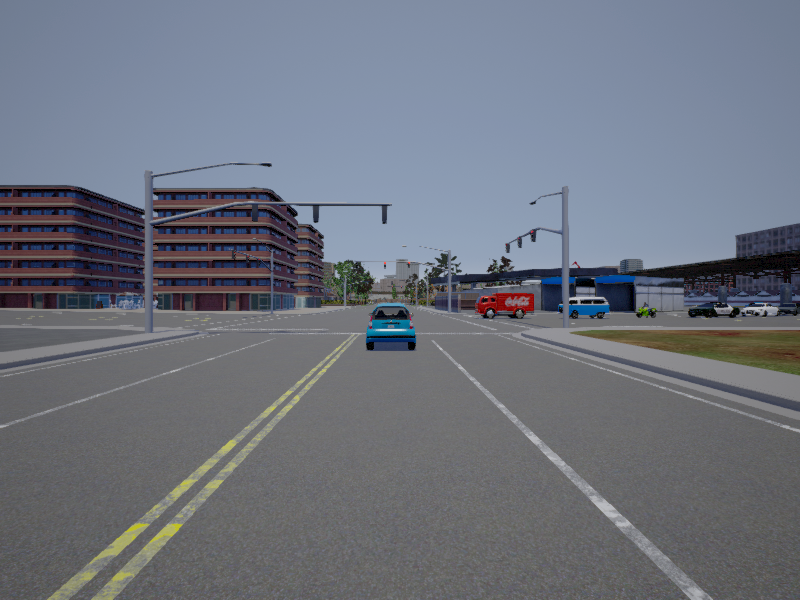Benign: (365, 304, 417, 351), (478, 291, 534, 322), (559, 297, 611, 322), (689, 303, 741, 319), (743, 304, 780, 318), (781, 303, 800, 315)
